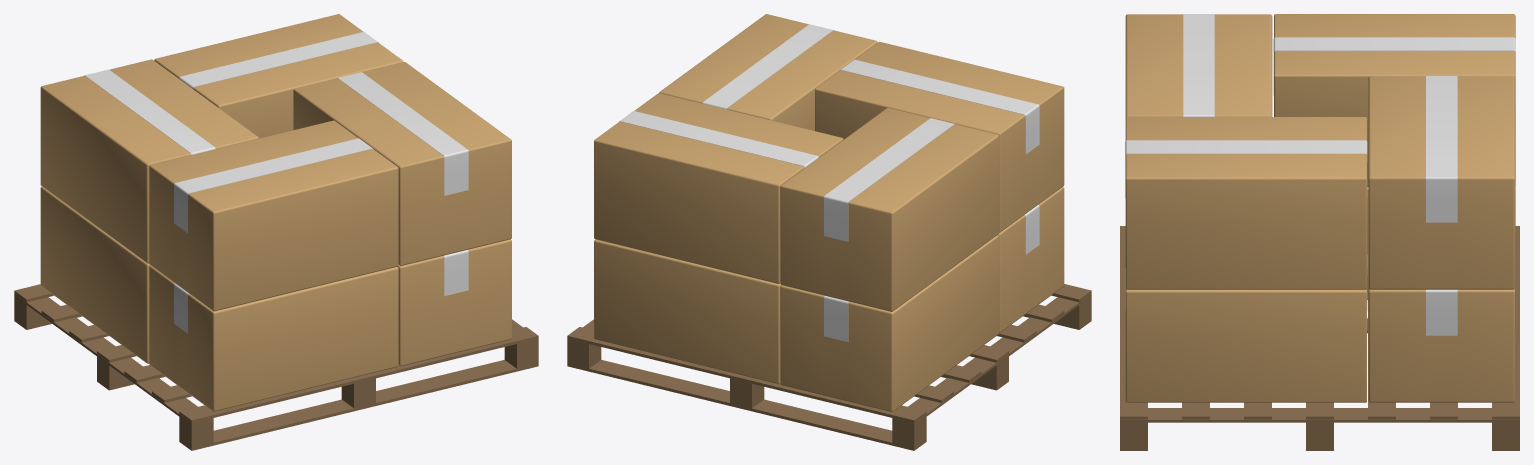
The model's file is wood-pallet-load.glb.
3 views of the same model, side by side, from view 1: azimuth 30°, elevation 25°; view 2: azimuth 150°, elevation 25°; view 3: azimuth 270°, elevation 25° (orthographic). The views are drawn at different scales.
Parts seen in each view (by area): view 1: 新华三货物堆DS001, 新华三货物堆DS001_1, 新华三货物堆DS001_2; view 2: 新华三货物堆DS001, 新华三货物堆DS001_1, 新华三货物堆DS001_2; view 3: 新华三货物堆DS001, 新华三货物堆DS001_2, 新华三货物堆DS001_1.
Boxes of the visible parts, x1,y1,x2,y2 form: 新华三货物堆DS001: [40, 14, 511, 411]; 新华三货物堆DS001_1: [14, 284, 538, 450]; 新华三货物堆DS001_2: [84, 32, 468, 333]; 新华三货物堆DS001: [594, 14, 1064, 412]; 新华三货物堆DS001_1: [567, 284, 1091, 450]; 新华三货物堆DS001_2: [619, 24, 1039, 341]; 新华三货物堆DS001: [1125, 14, 1515, 402]; 新华三货物堆DS001_2: [1125, 14, 1515, 335]; 新华三货物堆DS001_1: [1120, 226, 1519, 450].
Size of the model in its own units: 1.15 by 0.7301 by 1.02.
